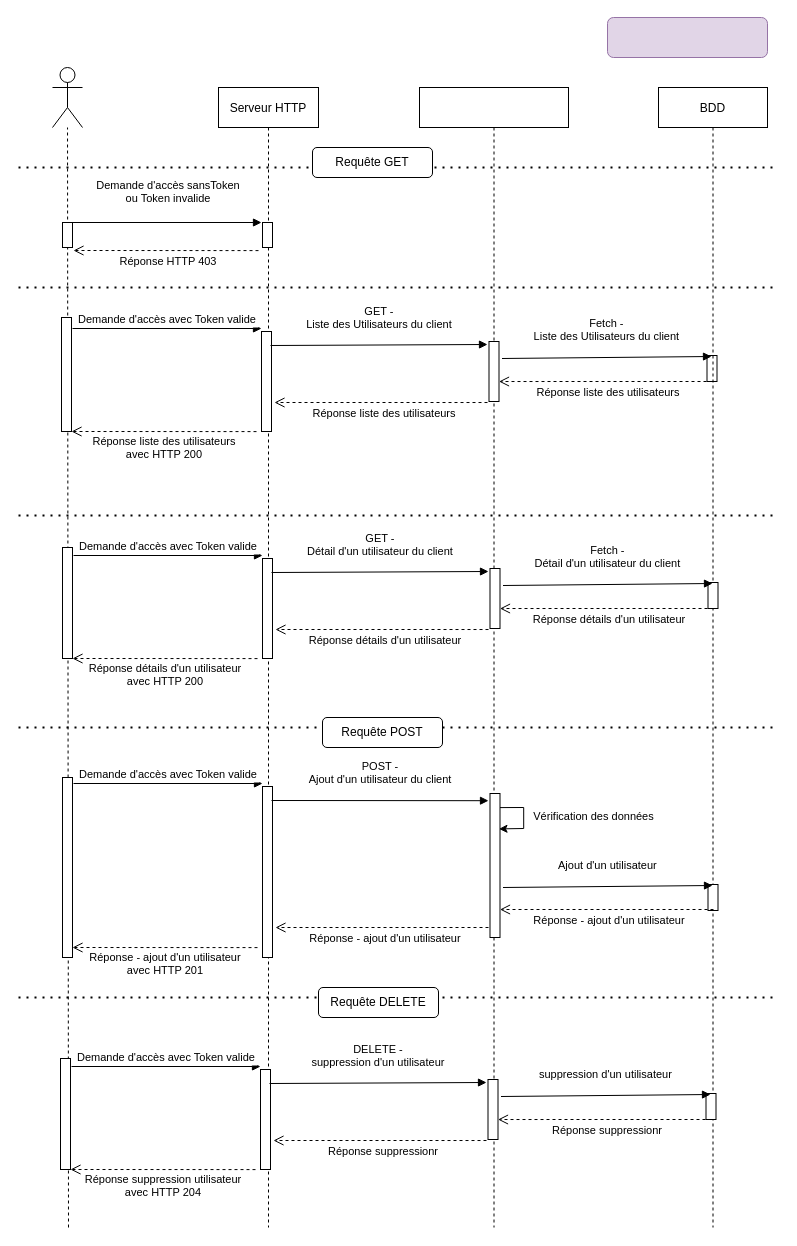
Some shapes in this 797 by 1246 pixel diagram are drawn without their labels. Each missing label, with the centre of its shape:
"BileMo" goes at (x=687, y=37).
"Client" goes at (x=67, y=97).
"Service API" goes at (x=493, y=657).
